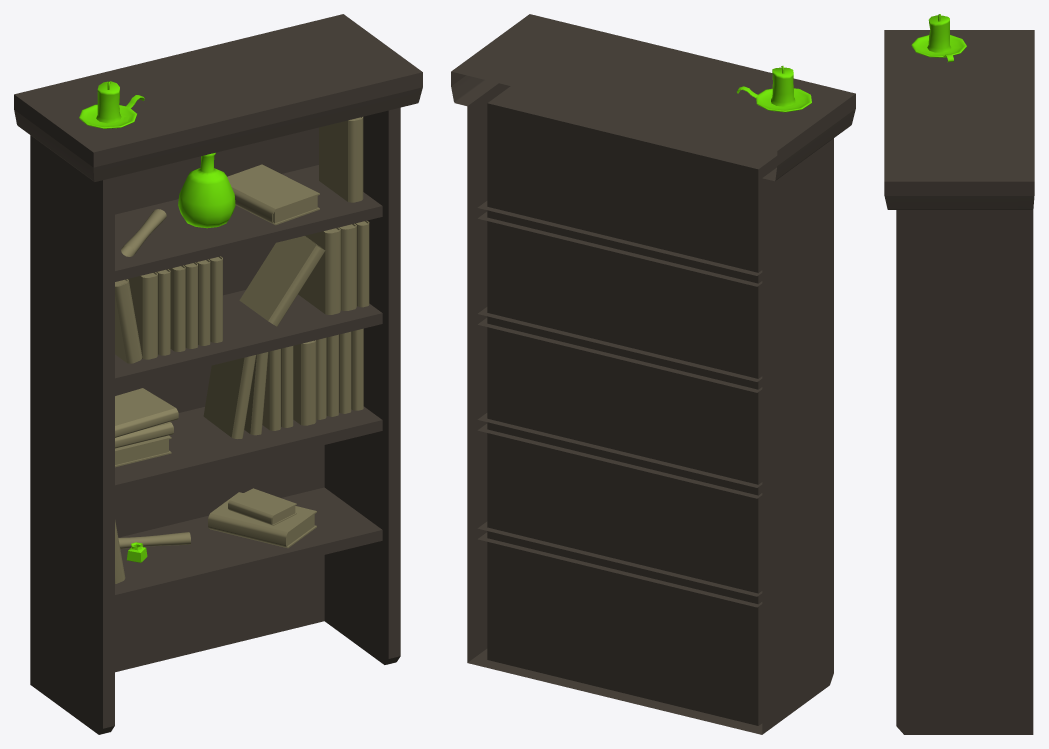
File: library.fbx
The picture shows the model from 3 angles, left to right: view 1: azimuth 30°, elevation 25°; view 2: azimuth 150°, elevation 25°; view 3: azimuth 270°, elevation 25°; orthographic projection. The views are drawn at different scales.
Parts seen in each view (by area): view 1: library; view 2: library; view 3: library.
Part boxes in pixels (x1,y1,x2,y2): library: [14, 14, 422, 734]; library: [451, 14, 855, 734]; library: [884, 14, 1034, 734].
Bounding box in the file's own units: 160 × 294 × 67.03.
